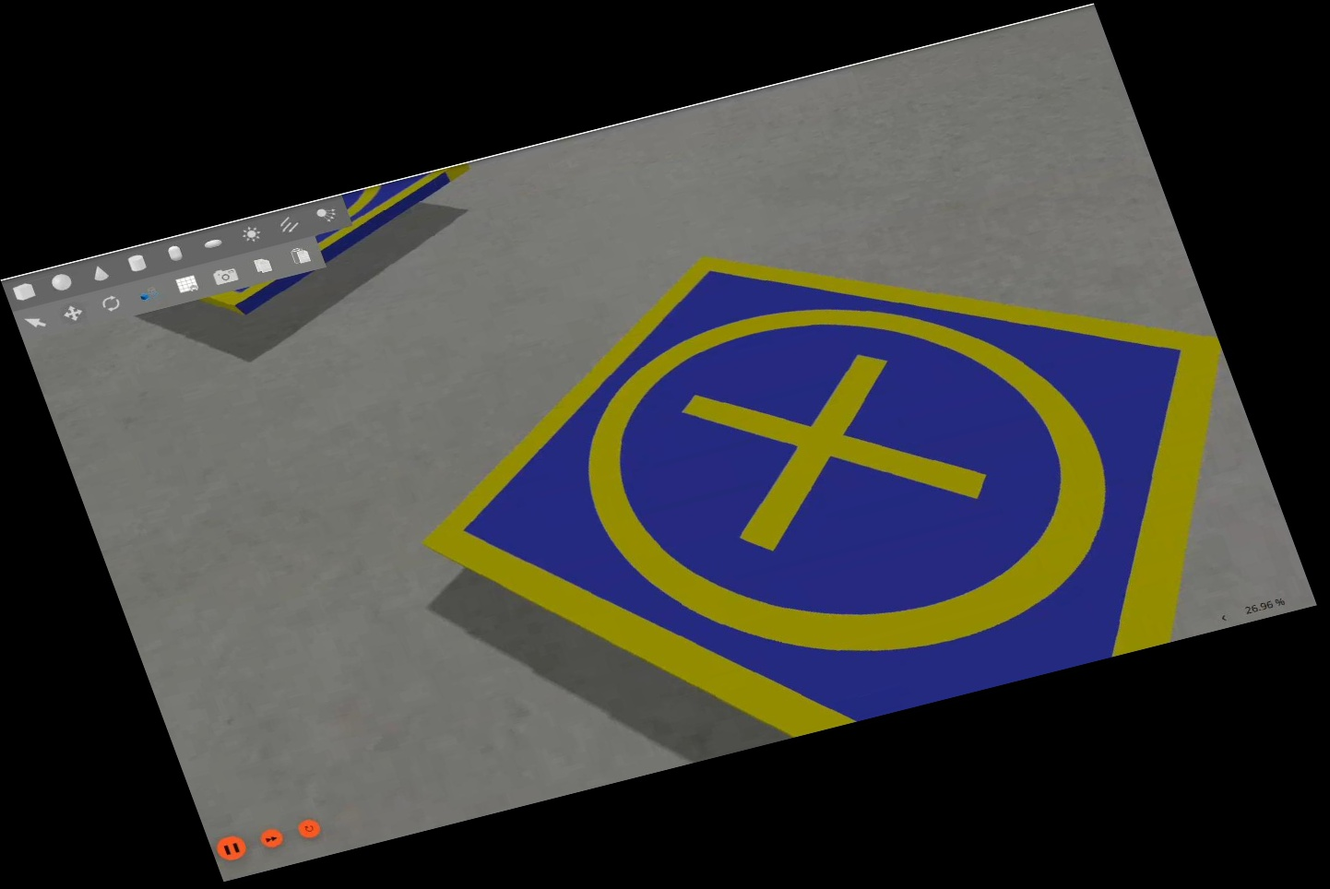small_base: (342, 140, 1319, 812)
